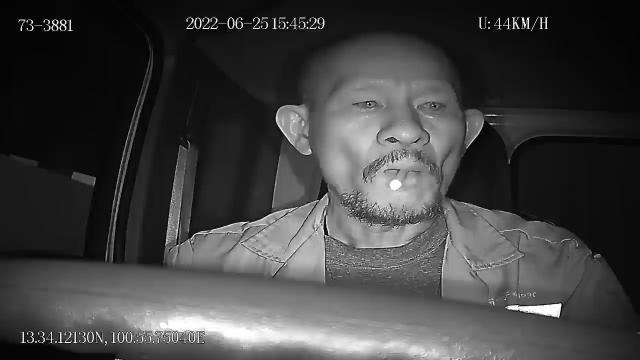SafeDriving: (408, 87, 454, 120), (341, 88, 392, 116)
Smoking: (390, 171, 406, 191)
